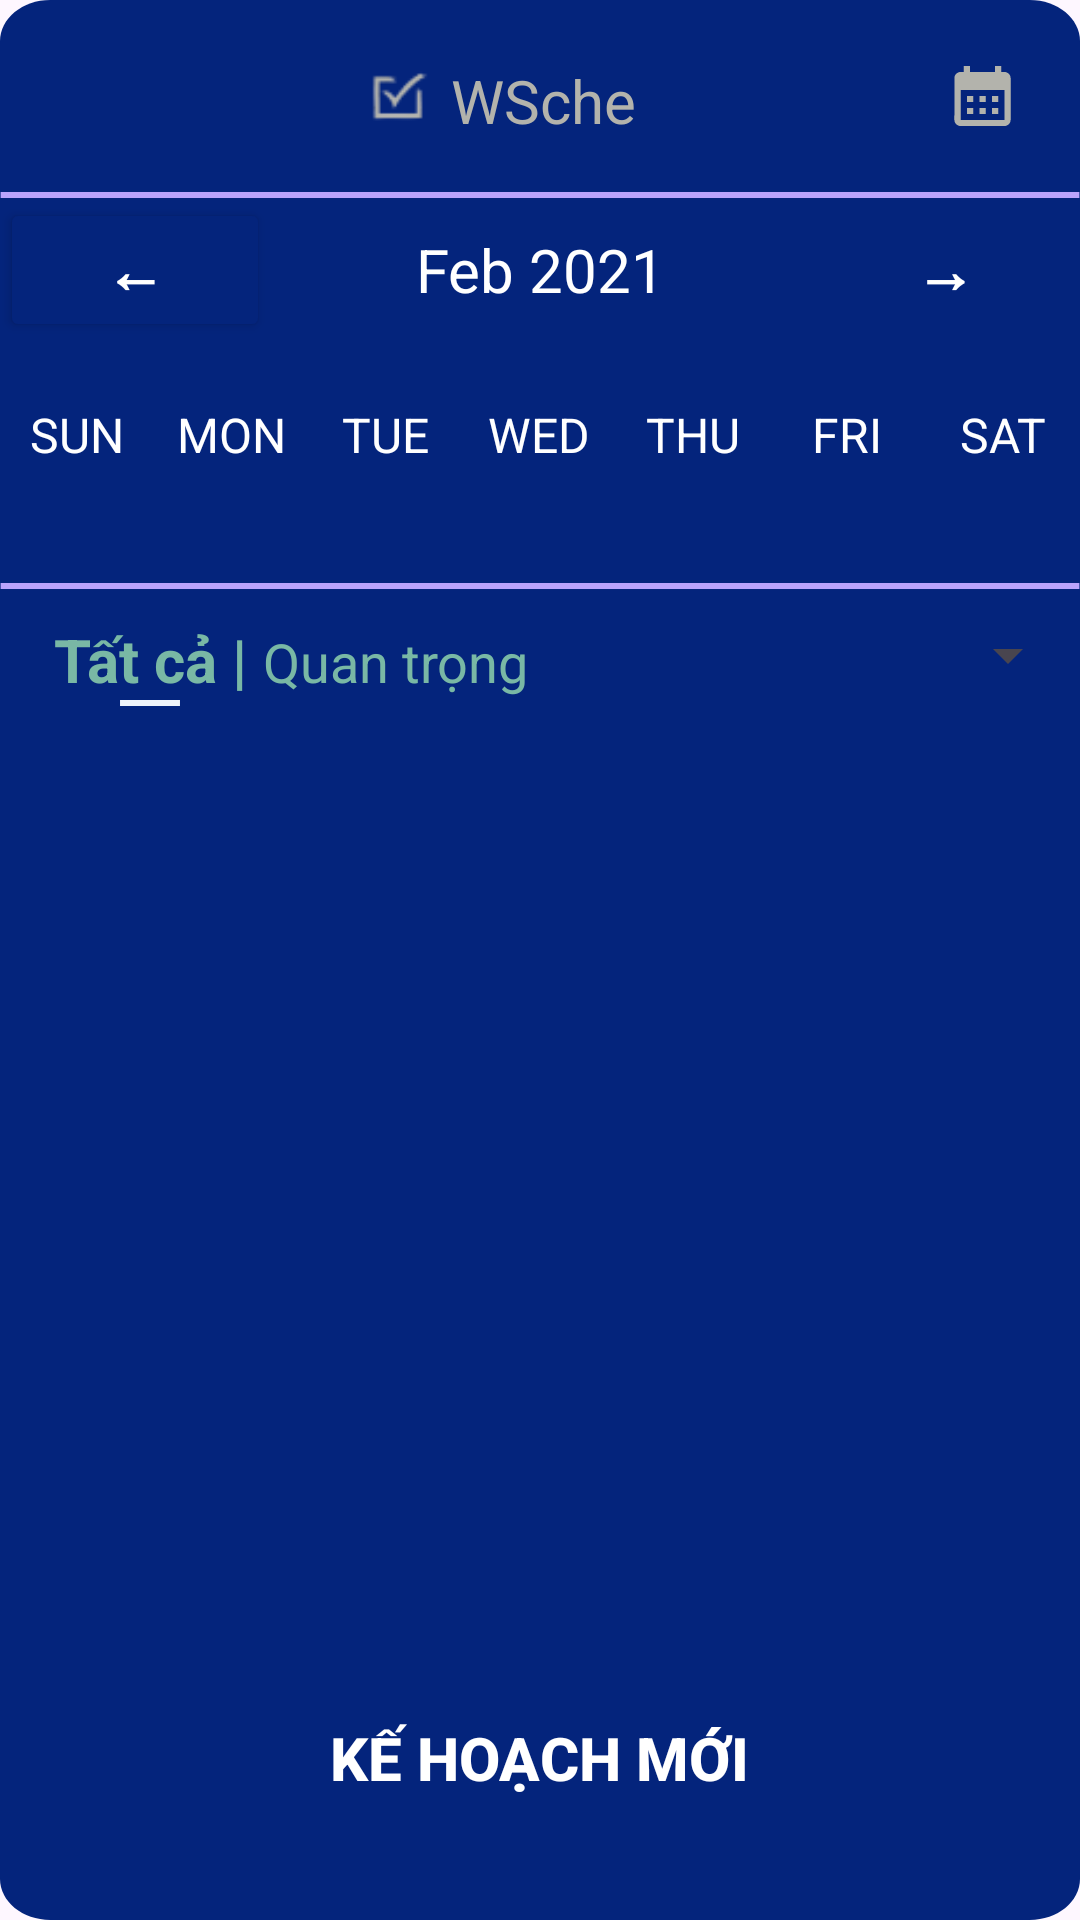

Locate icon controls on the screen. Image size 1080x1920, boxes as [x1=x1, y1=y1, x2=x2, y2=y2].
tick: [x1=373, y1=73, x2=426, y2=119]
